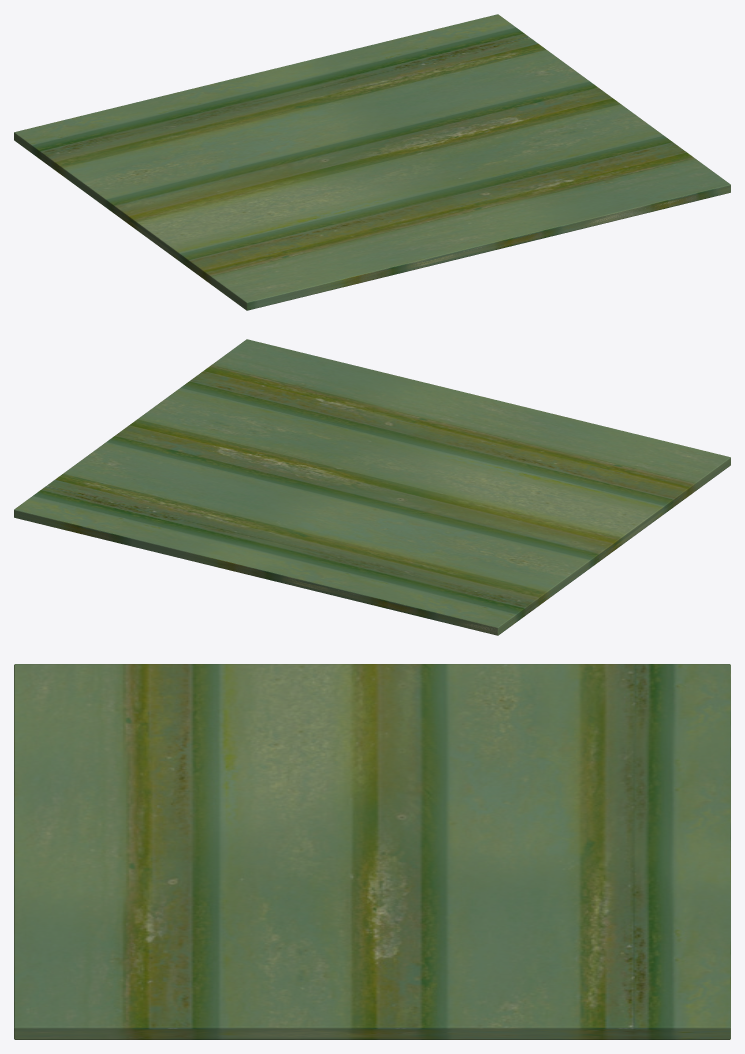
File: server_rack_wall.glb
3 views of the same model, one above another, from view 1: azimuth 30°, elevation 25°; view 2: azimuth 150°, elevation 25°; view 3: azimuth 270°, elevation 25° (orthographic). The views are drawn at different scales.
Parts seen in each view (by area): view 1: wall_panel; view 2: wall_panel; view 3: wall_panel.
Boxes of the visible parts, box(x1,y1,x2,y2) form: wall_panel: box(14, 14, 730, 310); wall_panel: box(14, 339, 730, 635); wall_panel: box(14, 664, 730, 1039).
Size of the model in its own units: 3 by 0.1325 by 2.5.
Materials: 3 (1 with a texture image).
